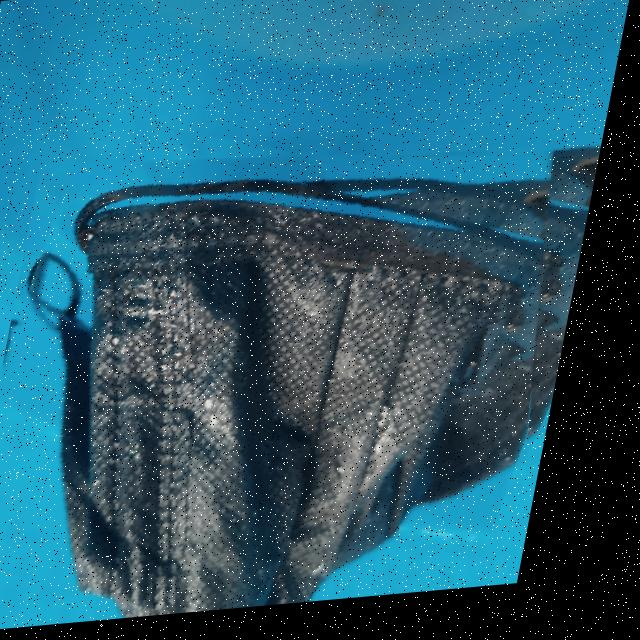mask: (0, 123, 614, 635)
